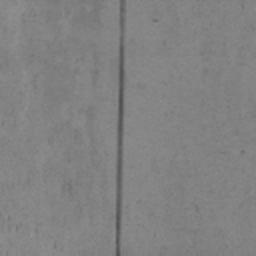Scratches: (114, 3, 125, 256)
